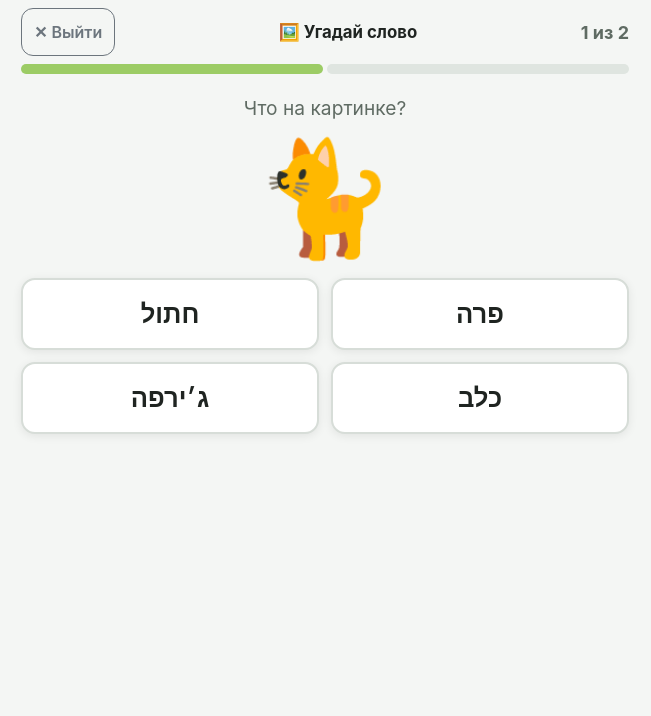
Test: PlayPage › раунд из указанных слов доходит до итогов и сохраняет прогресс
Expected: the text "1 из 2" is shown, [581,18,629,46]
Click the button with class "option-btn" showing "חתול".
click(170, 314)  # box [21,278,319,350]
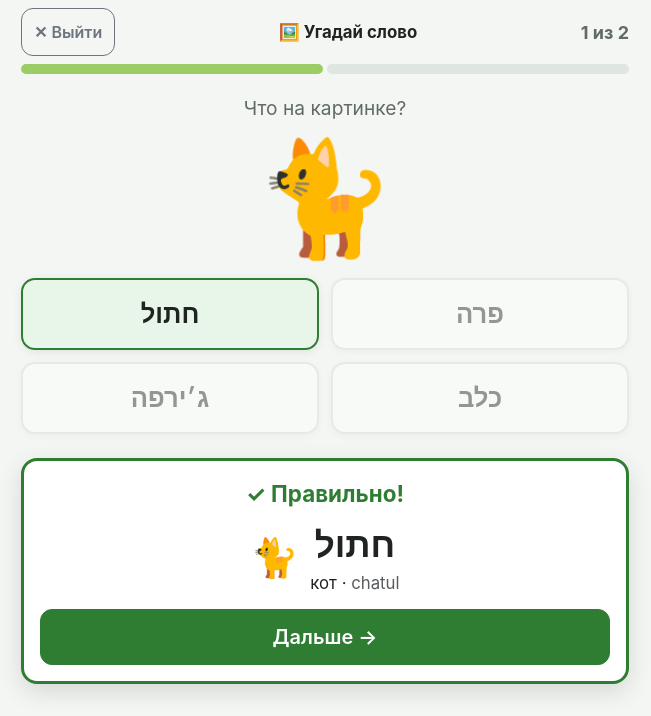
Click the button "Дальше →".
click(325, 637)  # box [40,609,610,665]
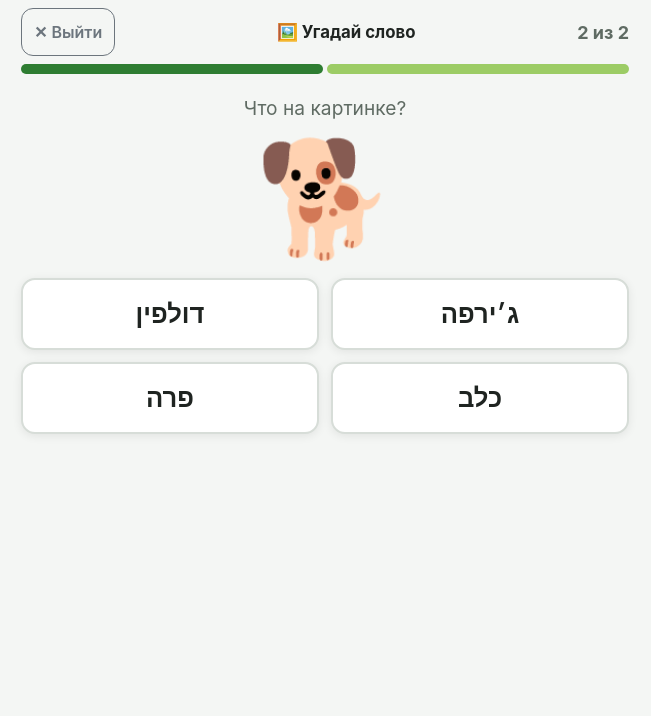
Click the button with class "option-btn" showing "דולפין".
click(170, 314)  # box [21,278,319,350]
(page scrolled)
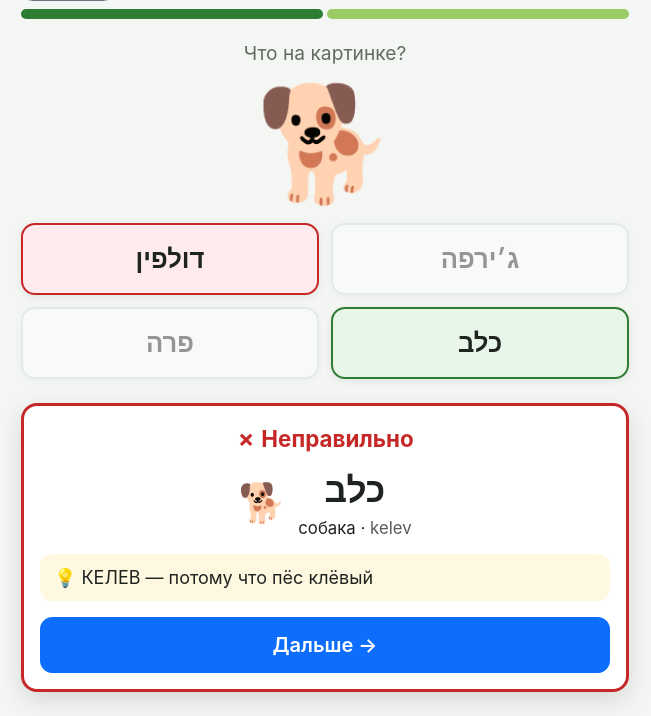
Click the button "Дальше →".
click(325, 645)  # box [40,617,610,673]
(page scrolled)
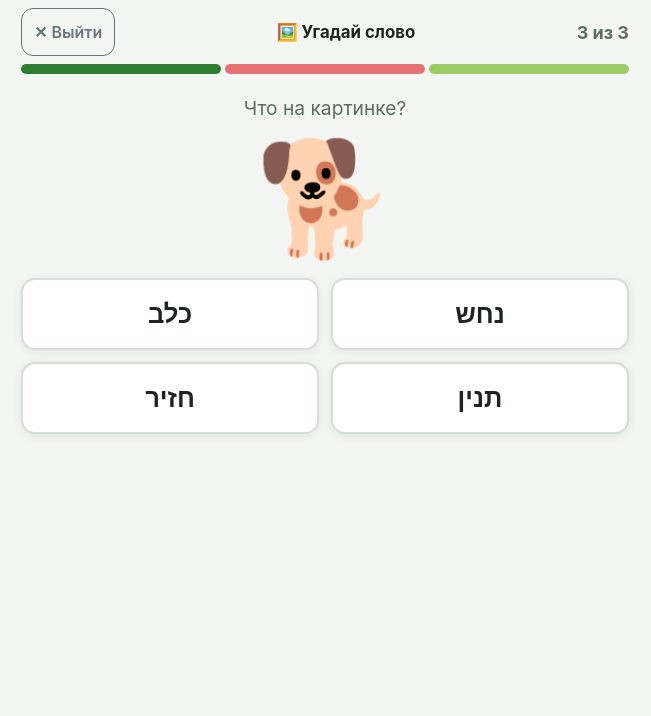
Expected: the text "3 из 3" is shown, [577,18,629,46]
Click the button with class "option-btn" showing "כלב".
click(170, 314)  # box [21,278,319,350]
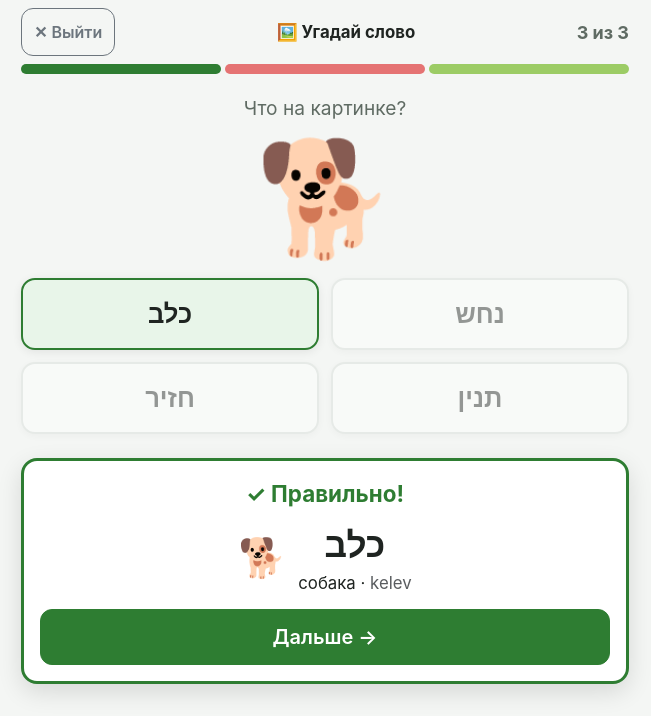
Click the button "Дальше →".
click(325, 637)  # box [40,609,610,665]
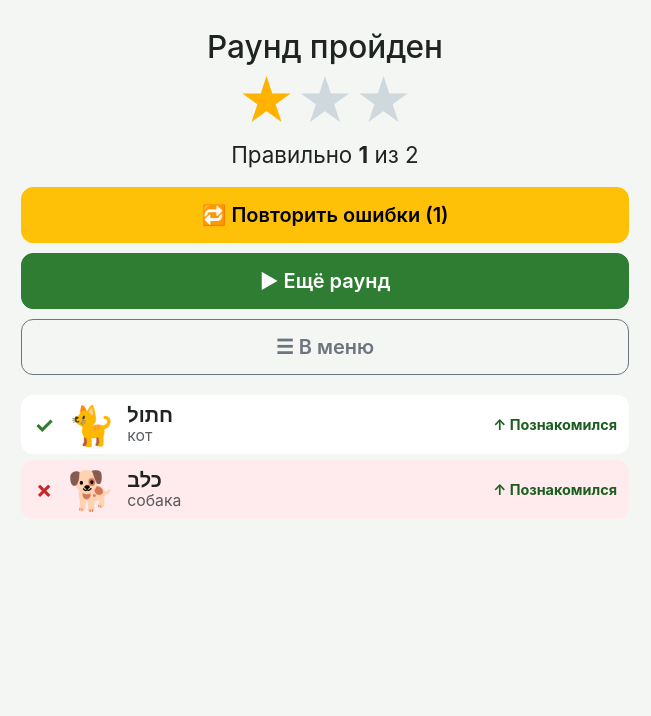
Expected: the text "Правильно" reads "Правильно 1 из 2", [231,141,419,168]
Expected: the button "🔁 Повторить ошибки (1)" is shown, [21,188,629,244]
